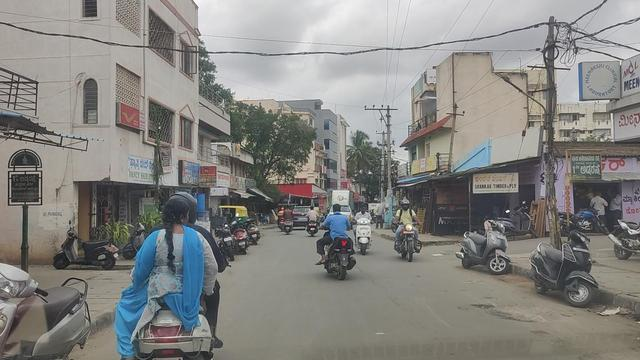LMV: (131, 188, 225, 360), (322, 198, 356, 284), (303, 204, 317, 237)
RoadDamages: (471, 290, 533, 327)
